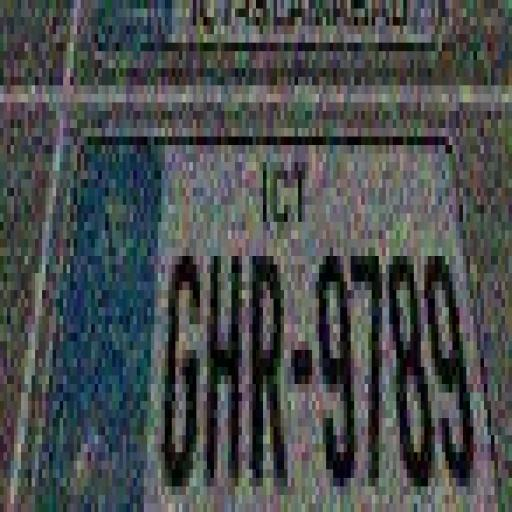7: (350, 241, 389, 485)
8: (388, 235, 427, 512)
9: (425, 255, 475, 494), (311, 247, 353, 492)
G: (163, 246, 198, 486)
H: (203, 242, 245, 486)
R: (248, 241, 284, 486)
